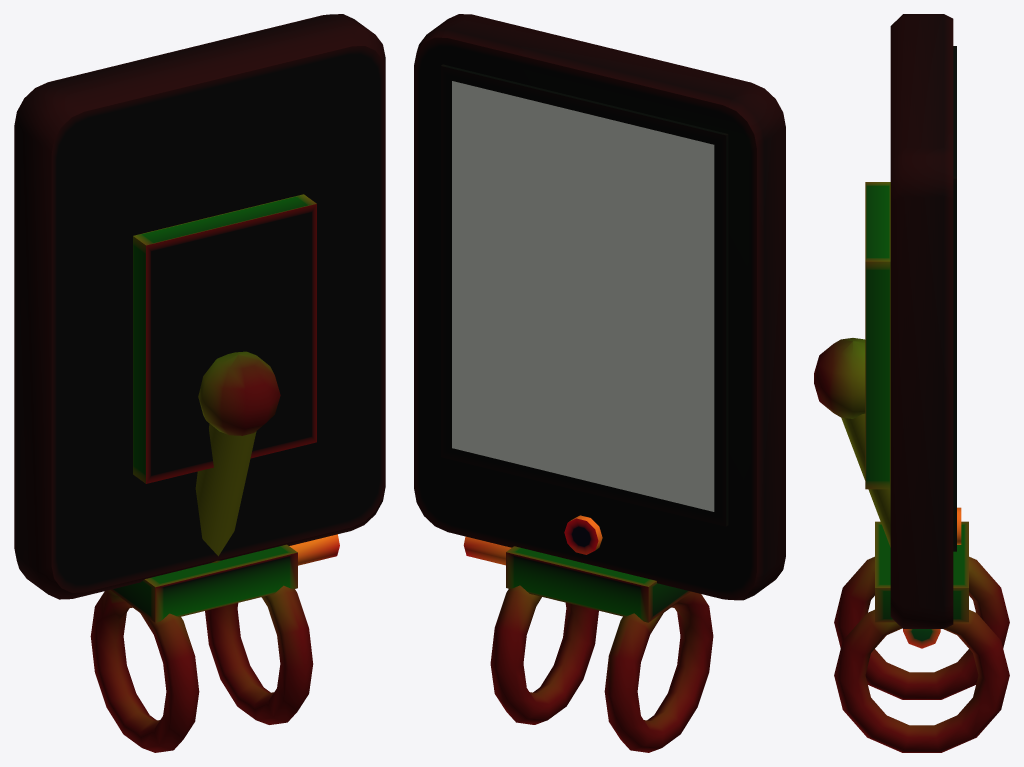
Rendered from instrument.glb.
3 renders of one model, left to right at view 1: azimuth 30°, elevation 25°; view 2: azimuth 150°, elevation 25°; view 3: azimuth 270°, elevation 25°, orthographic. The views are drawn at different scales.
Visible parts, largest first — view 1: Body; view 2: Body, Screen; view 3: Body.
Part boxes in pixels (bbox=[...]): Body: bbox=[14, 14, 385, 752]; Body: bbox=[414, 14, 785, 752]; Screen: bbox=[452, 81, 714, 511]; Body: bbox=[814, 14, 1009, 752].
Size of the model in its own units: 0.122 by 0.2263 by 0.0624.
